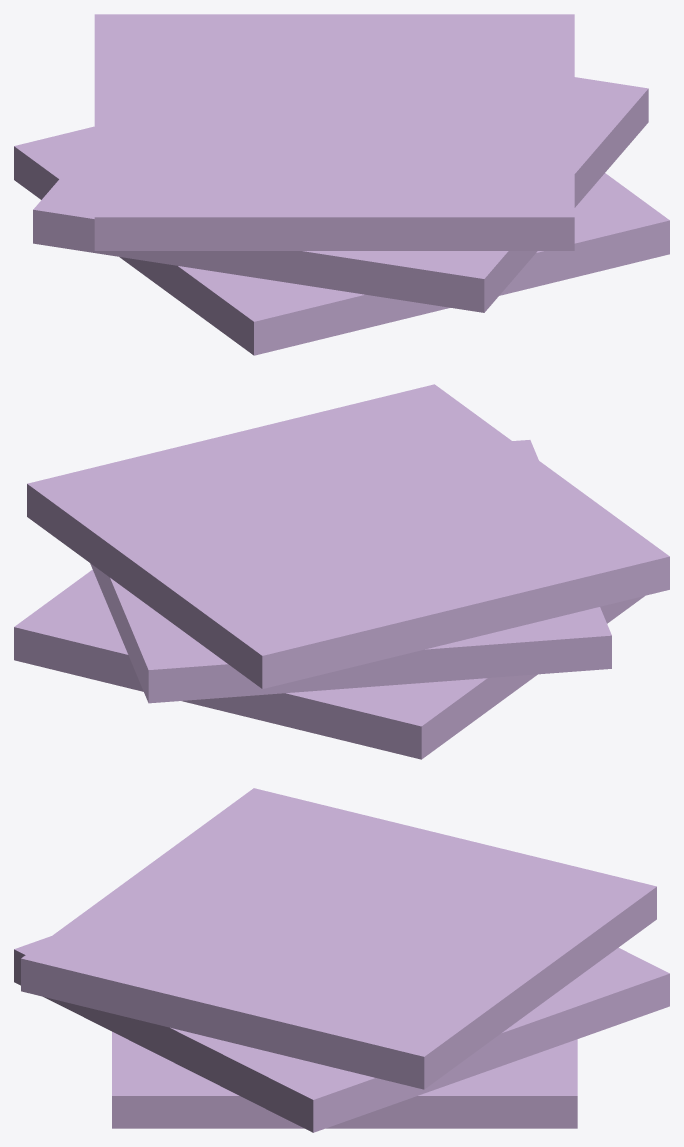
The model's file is Backdrop.fbx.
3 views of the same model, one above another, from view 1: azimuth 30°, elevation 25°; view 2: azimuth 150°, elevation 25°; view 3: azimuth 270°, elevation 25° (orthographic). The views are drawn at different scales.
Visible parts, largest first — view 1: Cube.002, Cube, Cube.001; view 2: Cube.002, Cube, Cube.001; view 3: Cube.002, Cube.001, Cube.
Boxes of the visible parts, left/top/right/bottom form: Cube.002: left=94, top=14, right=574, bottom=250; Cube: left=14, top=126, right=669, bottom=355; Cube.001: left=33, top=77, right=648, bottom=312; Cube.002: left=27, top=384, right=669, bottom=688; Cube: left=14, top=569, right=644, bottom=759; Cube.001: left=90, top=440, right=611, bottom=703; Cube.002: left=21, top=788, right=656, bottom=1089; Cube.001: left=14, top=936, right=669, bottom=1132; Cube: left=112, top=1031, right=577, bottom=1128.
Size of what is drawn, in the model's own units: 159 by 27.52 by 159.
